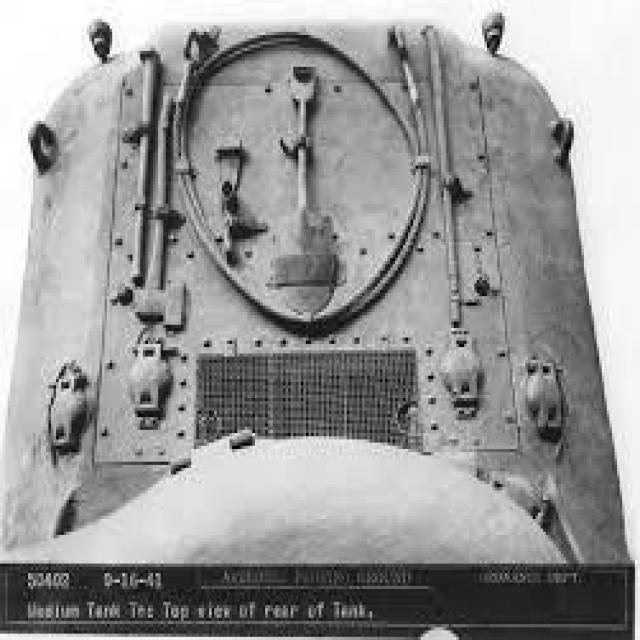Tanks: (28, 35, 569, 583)
